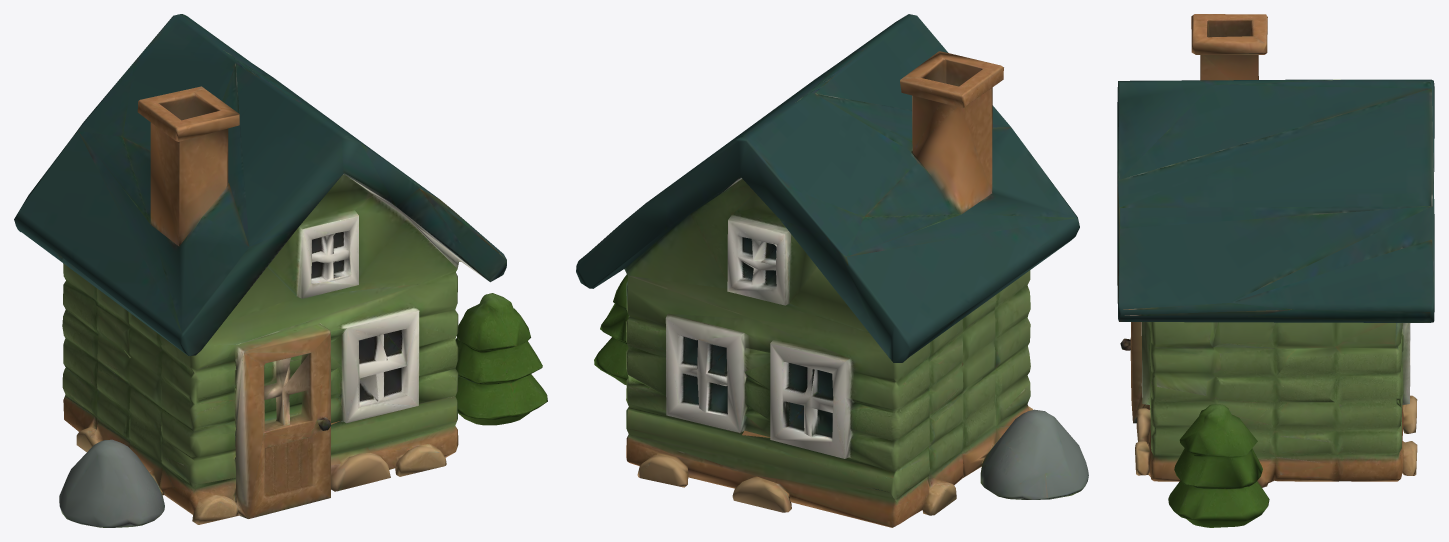
Rendered from house.glb.
3 views of the same model, side by side, from view 1: azimuth 30°, elevation 25°; view 2: azimuth 150°, elevation 25°; view 3: azimuth 270°, elevation 25° (orthographic). The views are drawn at different scales.
Size of the model in its own units: 1.56 by 1.22 by 0.9817.
Materials: 1 (1 with a texture image).
